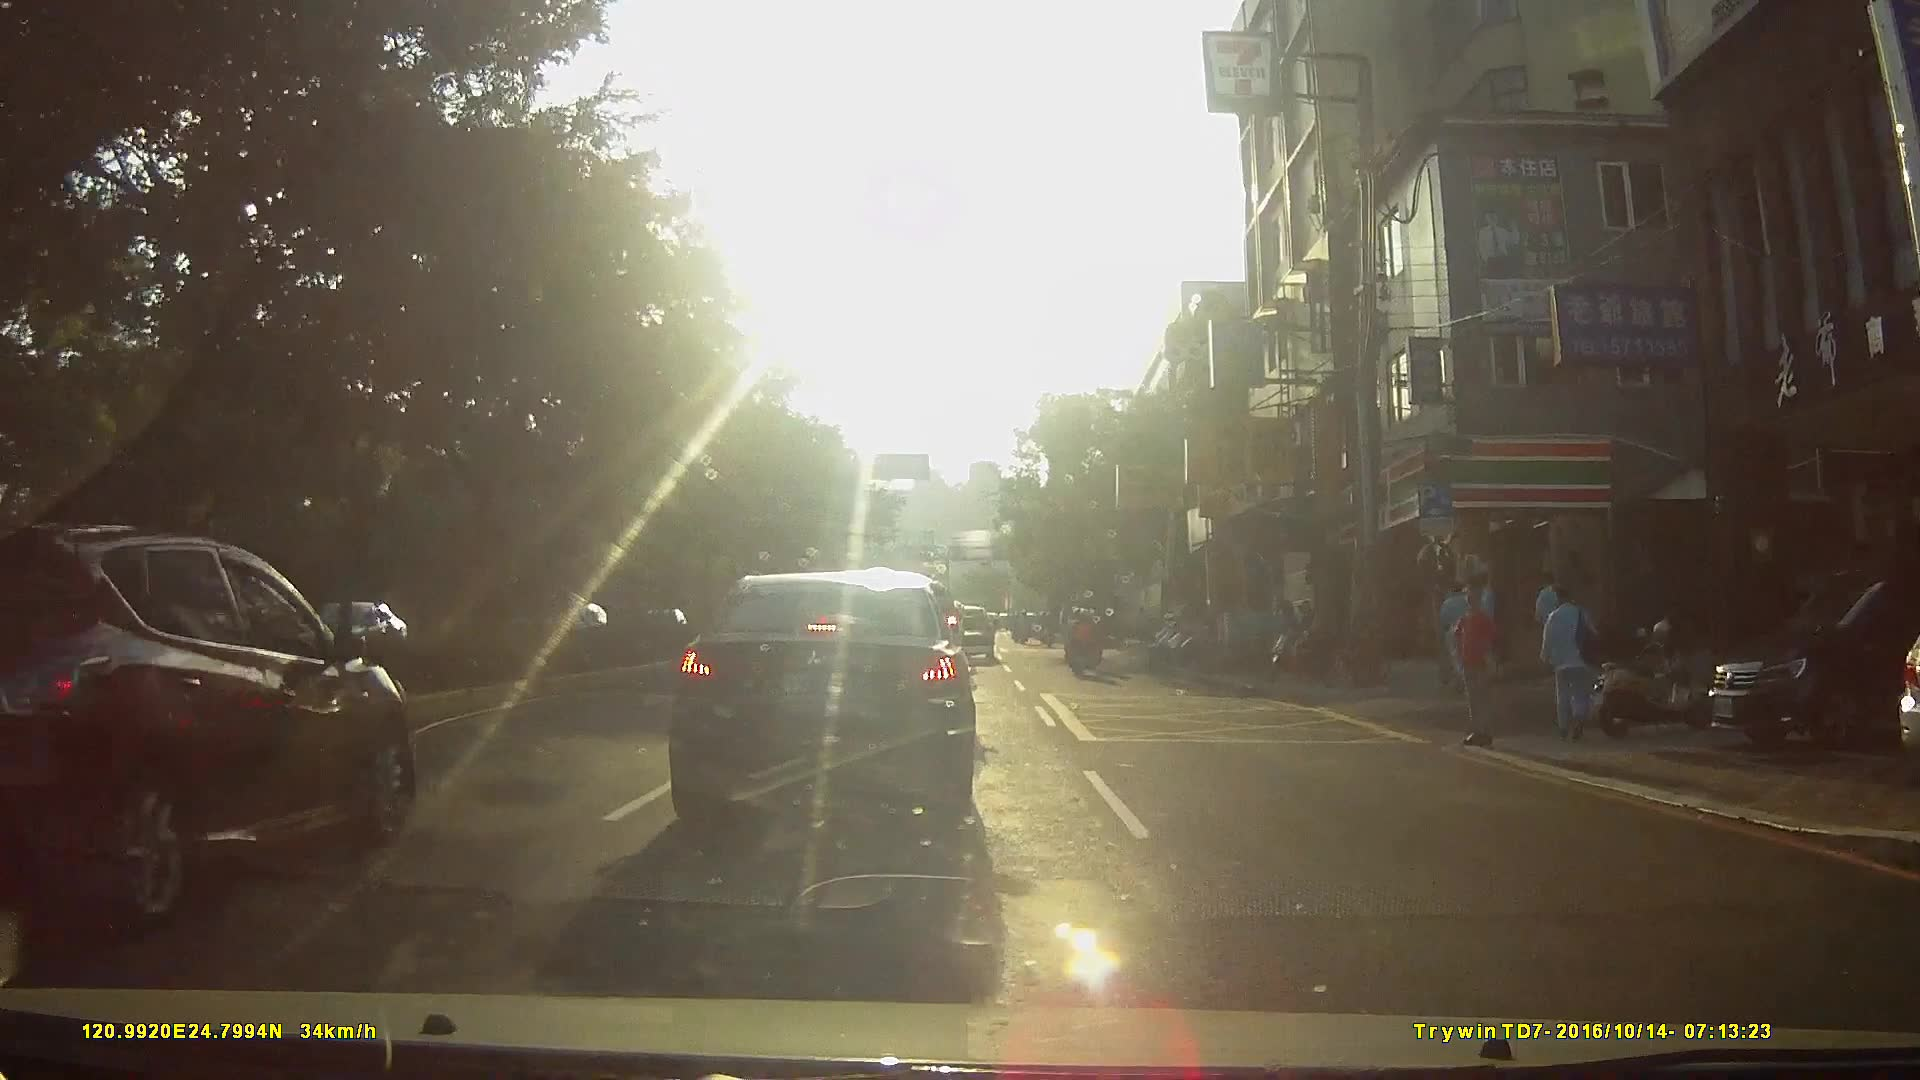pedestrian: (1535, 585, 1599, 738), (1455, 591, 1504, 753), (1438, 579, 1478, 682)
rider: (1063, 609, 1101, 682), (1062, 606, 1087, 659)
vehicle: (1, 520, 433, 930), (668, 572, 993, 810), (1695, 565, 1920, 758)
